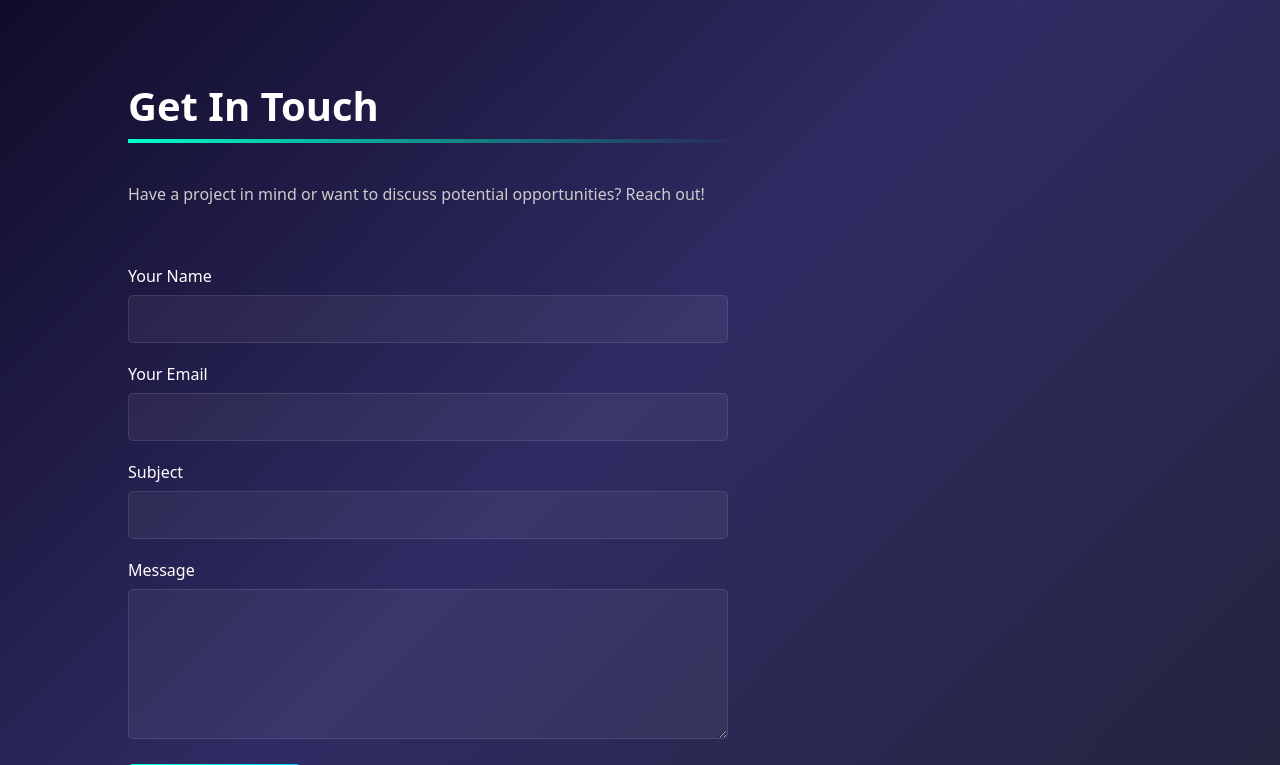
Test: ContactForm › shows sending state during submission
This screenshot has width=1280, height=765.
Type "Test" into the field labelled "Your Name" at {"x": 428, "y": 319}, box [128, 295, 728, 343]
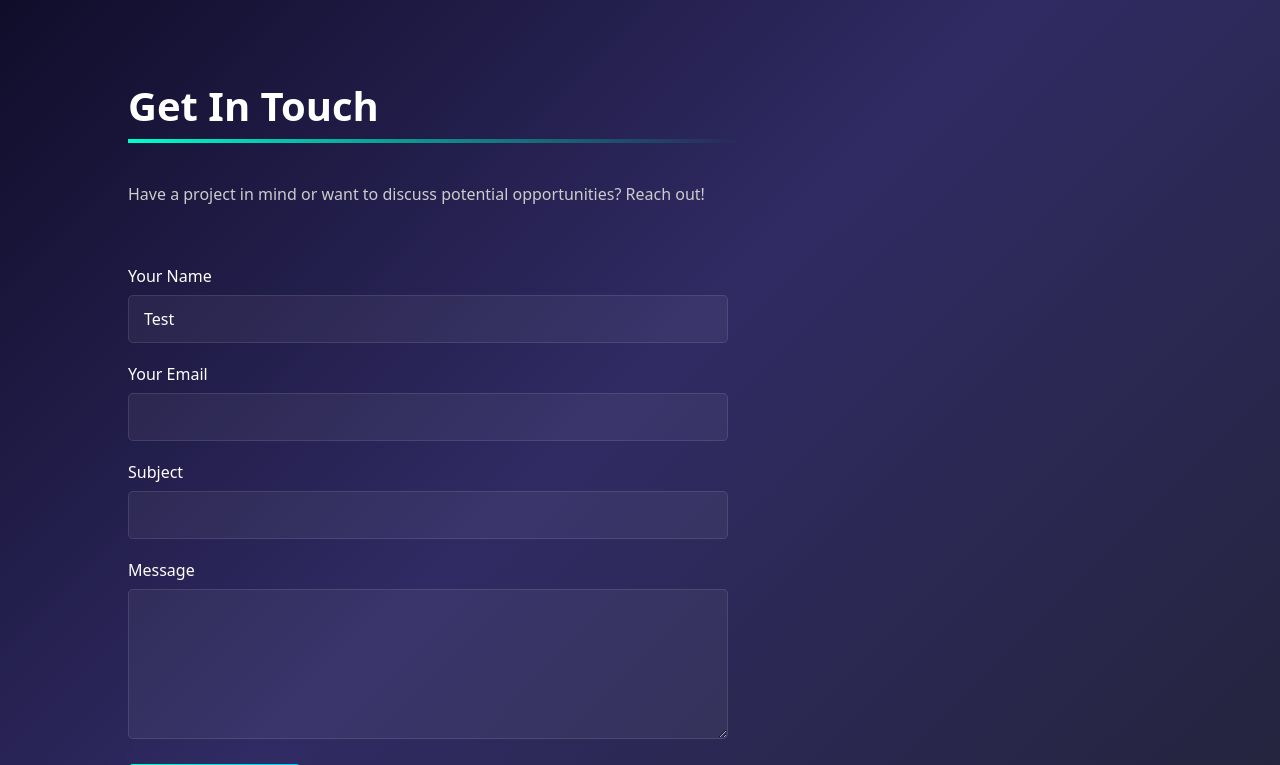
Type "test@test.com" into the field labelled "Your Email" at {"x": 428, "y": 417}, box [128, 393, 728, 441]
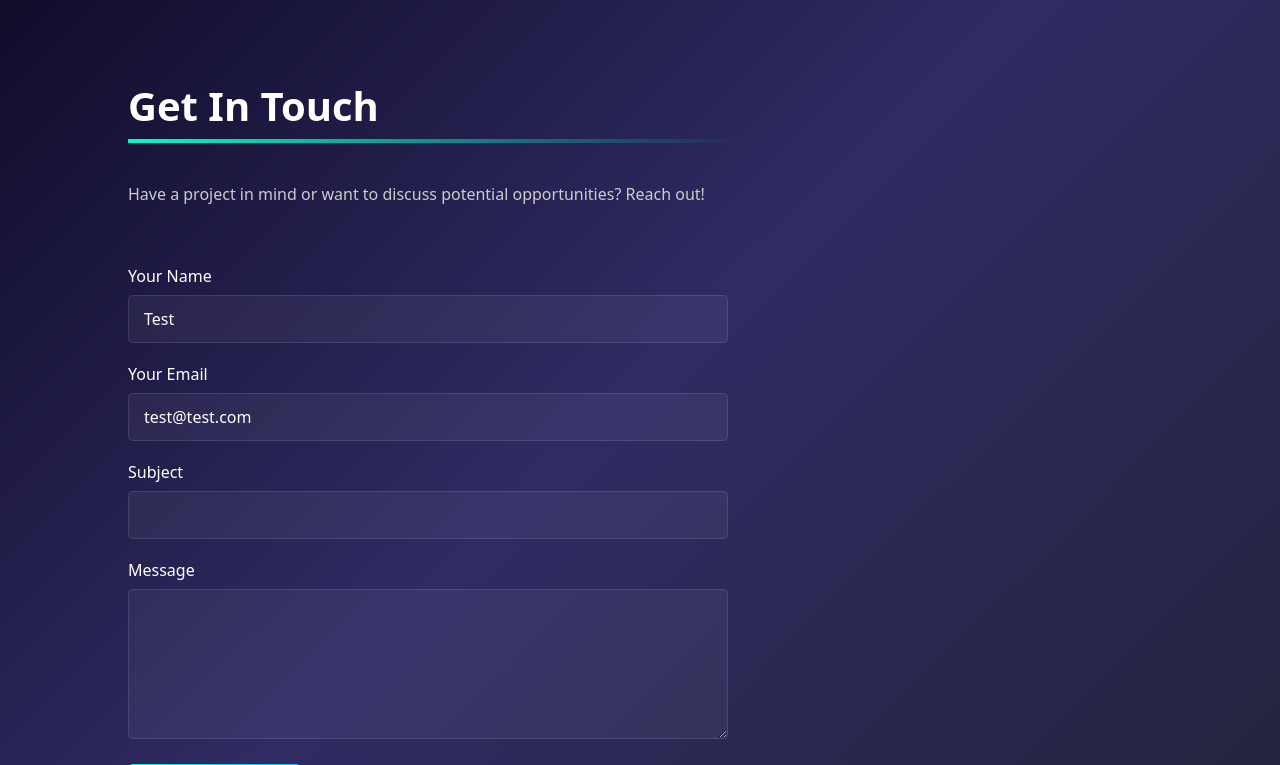
Type "Subject" into the field labelled "Subject" at {"x": 428, "y": 515}, box [128, 491, 728, 539]
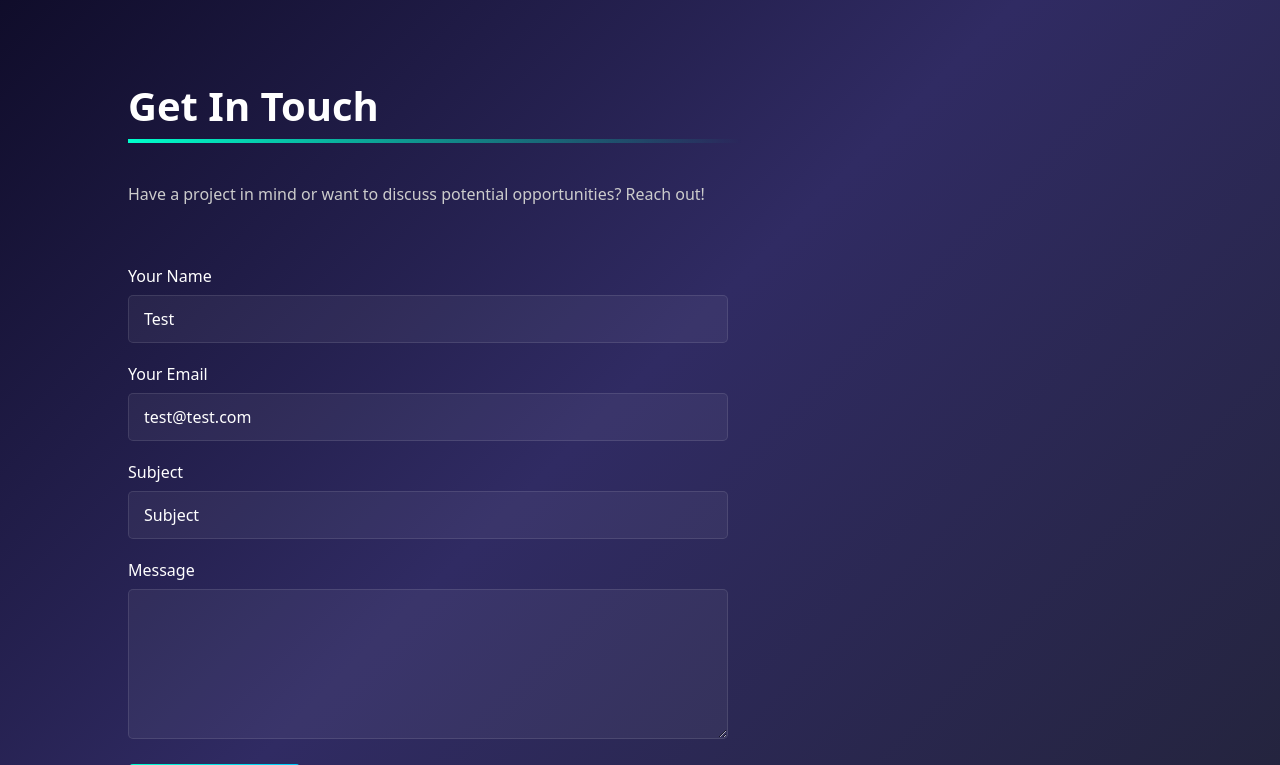
Type "Message" into the text box labelled "Message" at {"x": 428, "y": 664}, box [128, 589, 728, 739]
(page scrolled)
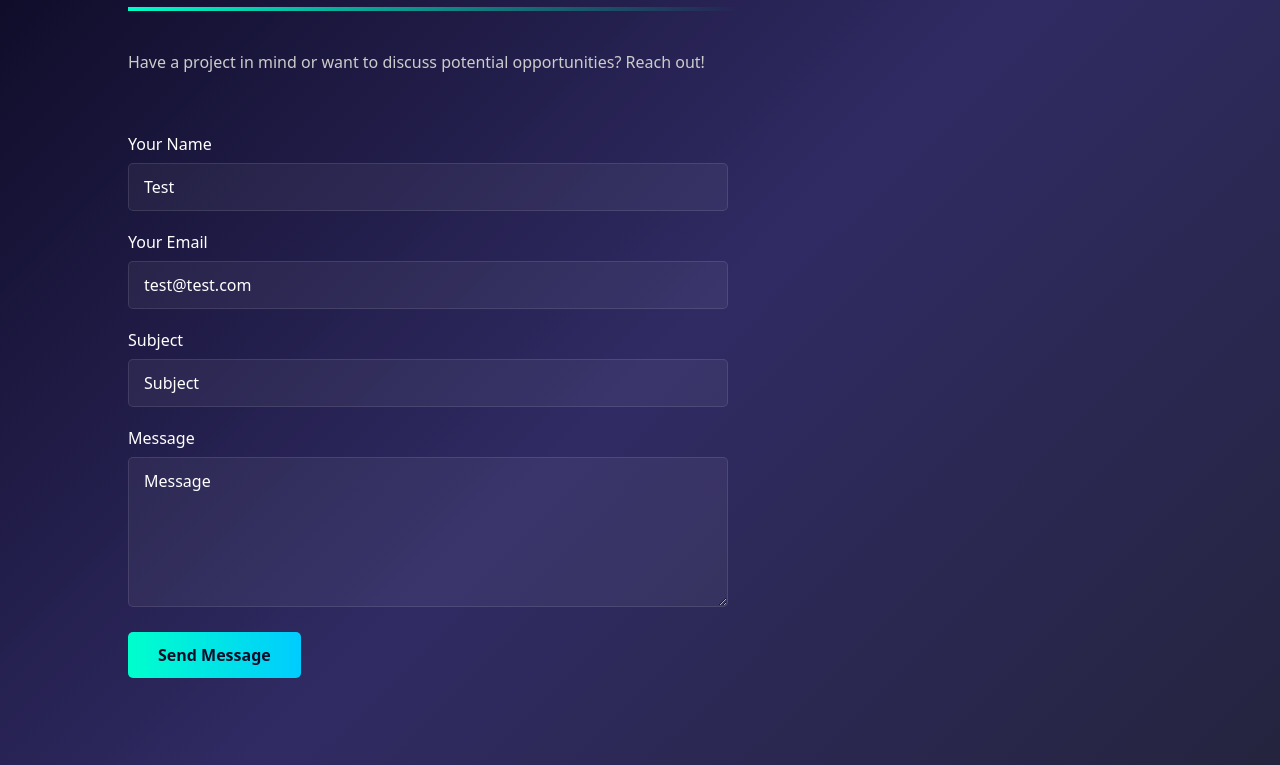
Click the button "Send Message" at {"x": 214, "y": 655}, box [128, 632, 301, 678]
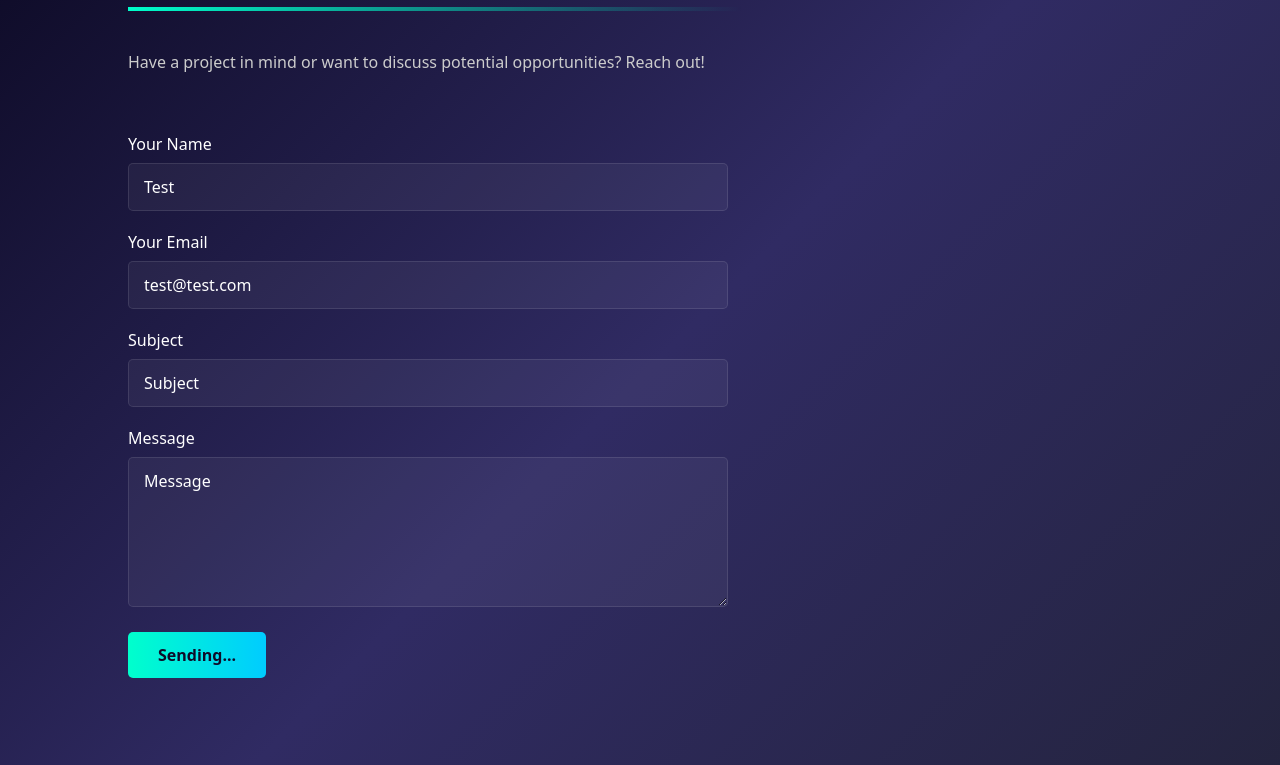
Expected: the button "Sending..." is disabled, [128, 632, 266, 678]
